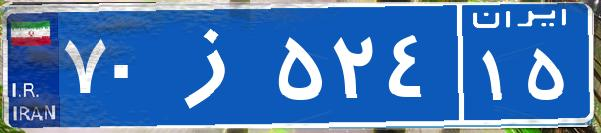0: (110, 28, 158, 105)
1: (475, 38, 525, 113)
2: (330, 28, 385, 110)
4: (385, 28, 445, 110)
5: (273, 28, 330, 110), (525, 38, 570, 115)
7: (57, 26, 110, 107)
ز: (158, 15, 273, 115)
